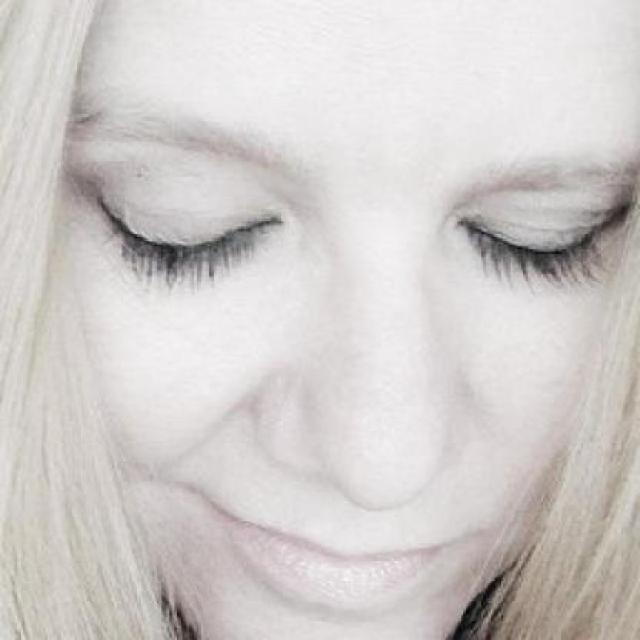drowsy: (105, 194, 286, 294), (459, 200, 599, 298)
